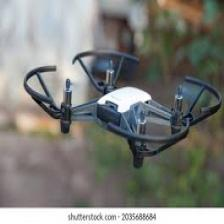drone: (24, 49, 220, 156)
